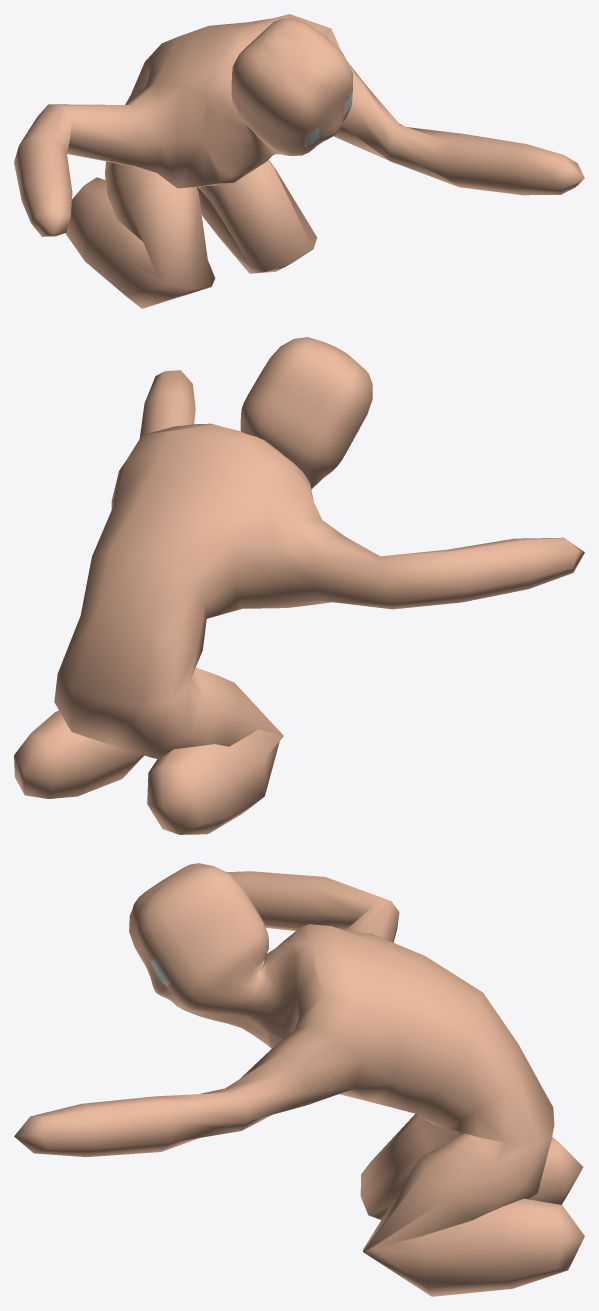
Rendered from Bloc Destructible Cage Humain 1.fbx.
The picture shows the model from 3 angles, top to bottom: view 1: azimuth 30°, elevation 25°; view 2: azimuth 150°, elevation 25°; view 3: azimuth 270°, elevation 25°; orthographic projection. The views are drawn at different scales.
Visible parts, largest first — view 1: corps; view 2: corps; view 3: corps.
Boxes of the visible parts, <box> form: corps: <box>14,14,584,308</box>; corps: <box>14,337,584,834</box>; corps: <box>14,863,584,1296</box>.
Bounding box in the file's own units: 174 × 125 × 168.
